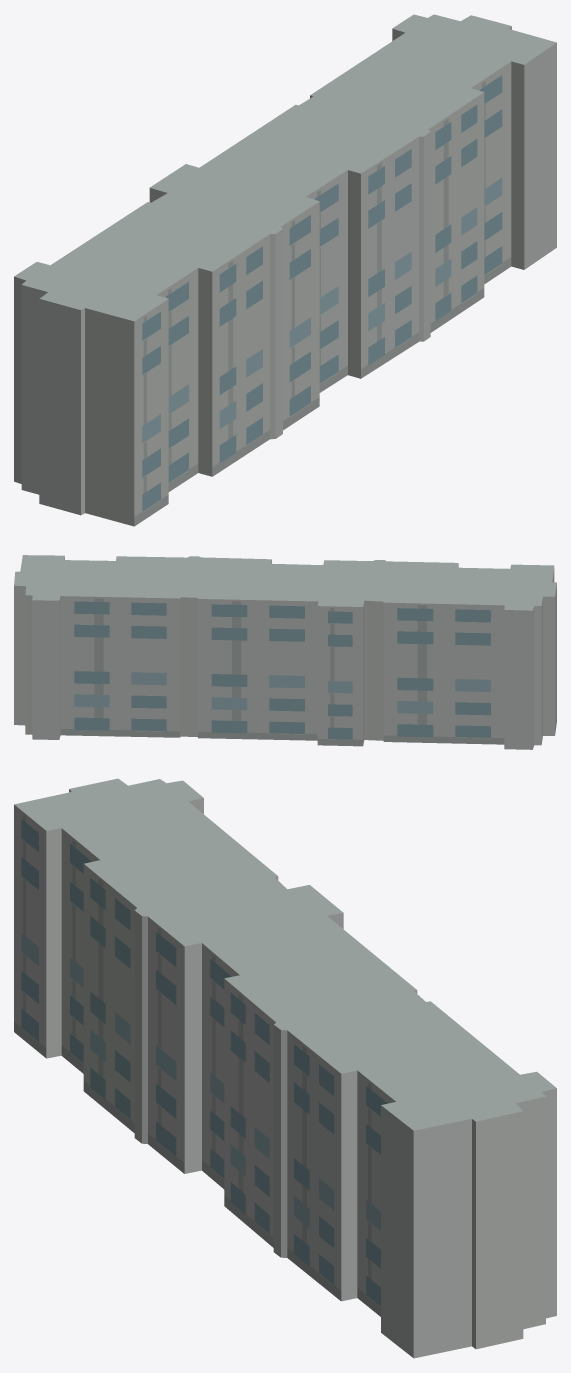
The model's file is survey-upis-32942333.glb.
3 renders of one model, top to bottom at view 1: azimuth 30°, elevation 25°; view 2: azimuth 150°, elevation 25°; view 3: azimuth 270°, elevation 25°, orthographic. The views are drawn at different scales.
Parts seen in each view (by area): view 1: survey-upis-32942333.tmp; view 2: survey-upis-32942333.tmp; view 3: survey-upis-32942333.tmp.
Part boxes in pixels (x1,y1,x2,y2): survey-upis-32942333.tmp: (14, 14, 556, 526); survey-upis-32942333.tmp: (14, 555, 556, 749); survey-upis-32942333.tmp: (14, 778, 556, 1358).
Bounding box in the file's own units: 65.4 × 19.7 × 42.59.
